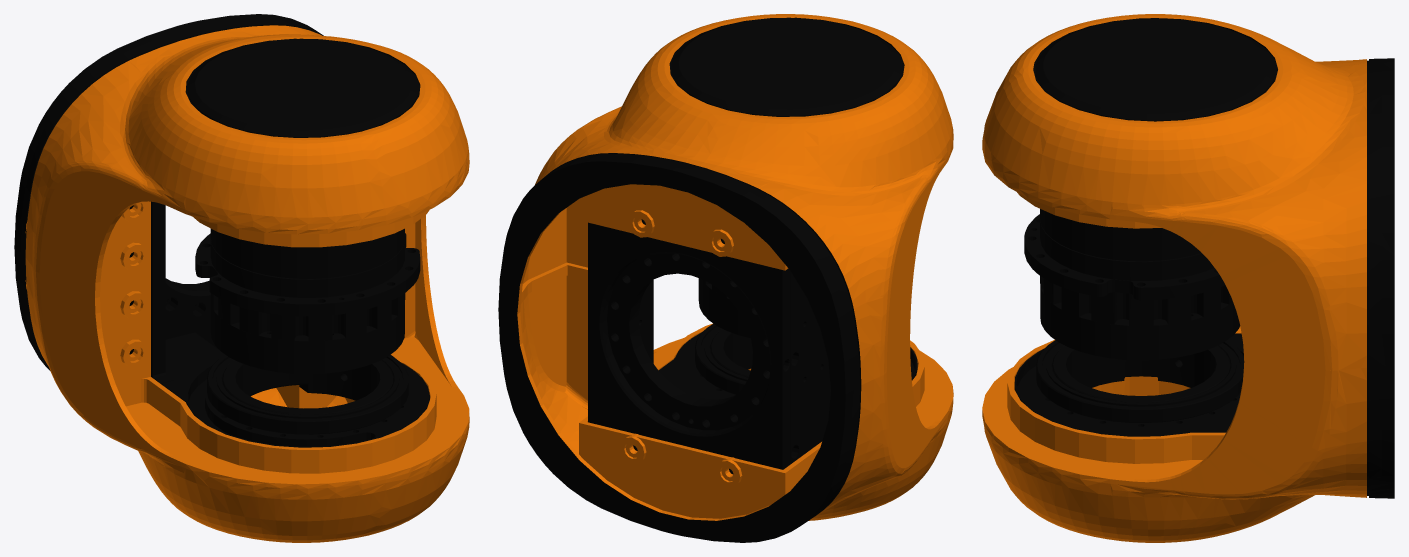
3 views of the same model, side by side, from view 1: azimuth 30°, elevation 25°; view 2: azimuth 150°, elevation 25°; view 3: azimuth 270°, elevation 25° (orthographic). The views are drawn at different scales.
Parts seen in each view (by area): view 1: link3.002, link3, link3.051, link3.1157, link3.605, link3.1156, link3.1192, link3.1181; view 2: link3.002, link3, link3.1181, link3.1192, link3.1157, link3.1156, link3.605, link3.1171; view 3: link3.002, link3, link3.051, link3.1157, link3.605, link3.1156.
Boxes of the visible parts, x1,y1,x2,y2 form: link3.002: (14,14,469,297); link3: (14,217,469,542); link3.051: (195,228,420,341); link3.1157: (161,332,429,447); link3.605: (210,300,404,374); link3.1156: (207,354,408,434); link3.1192: (129,201,173,383); link3.1181: (165,278,218,349); link3.002: (498,14,953,394); link3: (498,268,953,542); link3.1181: (588,219,799,474); link3.1192: (790,271,830,462); link3.1157: (659,329,917,457); link3.1156: (695,323,748,394); link3.605: (698,278,750,338); link3.1171: (638,280,653,363); link3.002: (982,14,1394,370); link3: (982,326,1394,542); link3.051: (1024,209,1232,326); link3.1157: (1014,333,1243,436); link3.605: (1040,286,1240,360); link3.1156: (1036,340,1244,422).
Size of the model in its own units: 0.2205 by 0.2366 by 0.208.
